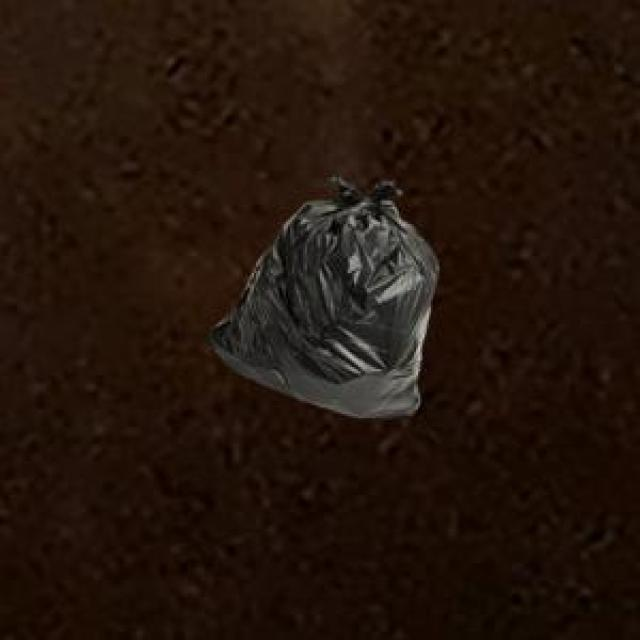miscellaneous trash: (203, 173, 435, 414)
